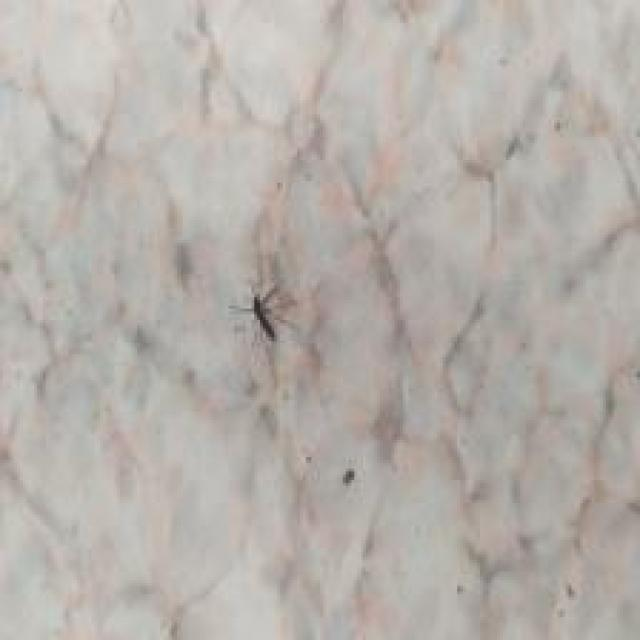Aedes albopictus: (229, 283, 297, 343)
